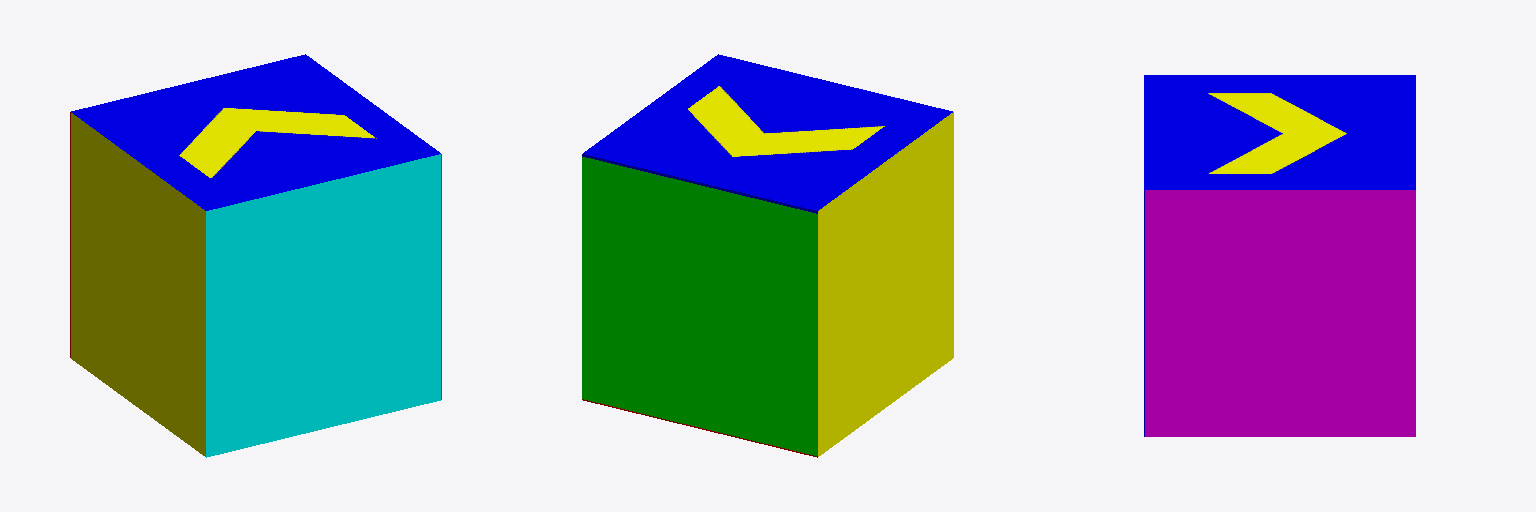
The picture shows the model from 3 angles: view 1: azimuth 30°, elevation 25°; view 2: azimuth 150°, elevation 25°; view 3: azimuth 270°, elevation 25°; orthographic projection.
Visible parts, largest first — view 1: Cube; view 2: Cube; view 3: Cube.
Part boxes in pixels (left/top/right/bottom): Cube: left=70, top=54, right=441, bottom=457; Cube: left=582, top=54, right=953, bottom=457; Cube: left=1144, top=75, right=1415, bottom=436.
Size of the model in its own units: 2 by 2 by 2.
Materials: 1 (1 with a texture image).